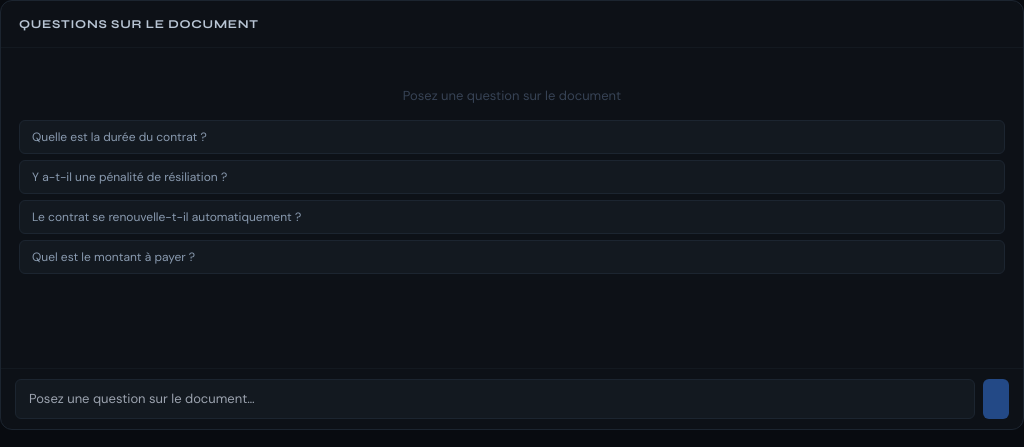
Test: QAChat › affiche la réponse de l'IA après une question
The width and height of the screenshot is (1024, 447).
Type "Durée du contrat ?" into the field with placeholder "Posez une question sur le document…" at (495, 399), box [15,379,975,418]
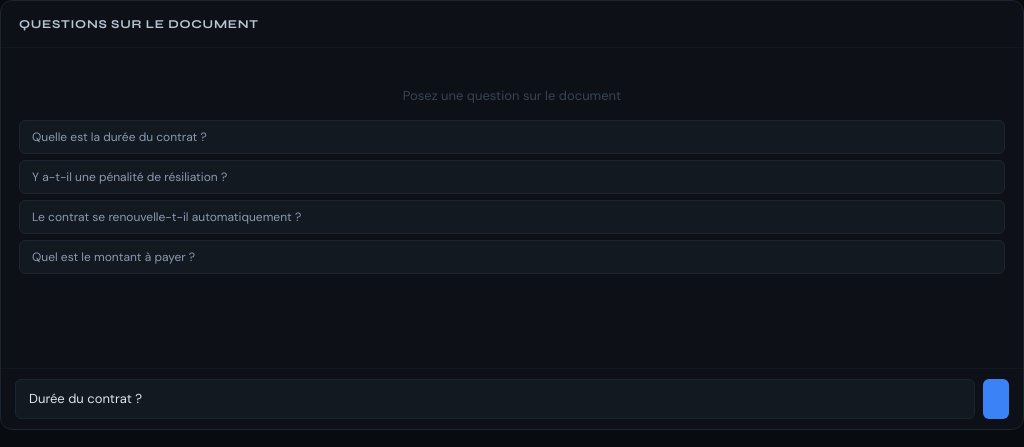
Press Enter in the field with placeholder "Posez une question sur le document…", box [15,379,975,418]
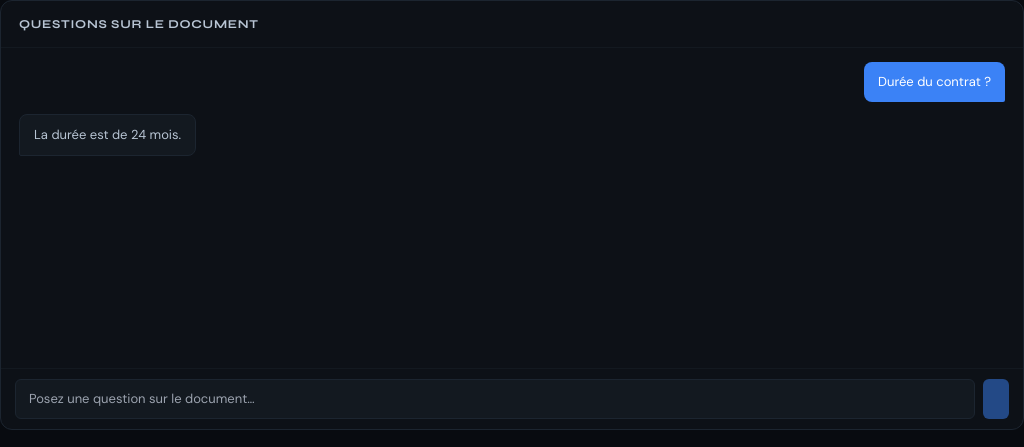
Check: the text "La durée est de 24 mois." is shown, box [19,114,196,156]
